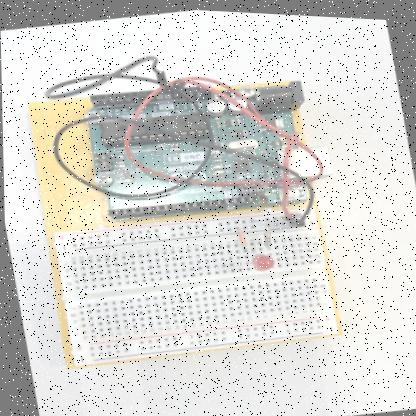5V: (114, 69, 292, 187), (282, 126, 336, 184)
ARDUINO: (81, 80, 310, 216)
Breadboard: (54, 204, 337, 365)
GND: (49, 109, 211, 201)
LED: (250, 251, 273, 268)
Resistor: (260, 225, 274, 246)
Short wire: (236, 228, 245, 248)
